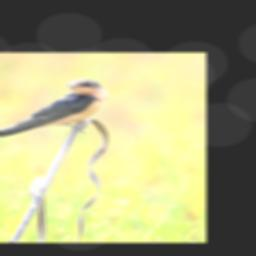Swallow: (0, 75, 109, 142)
